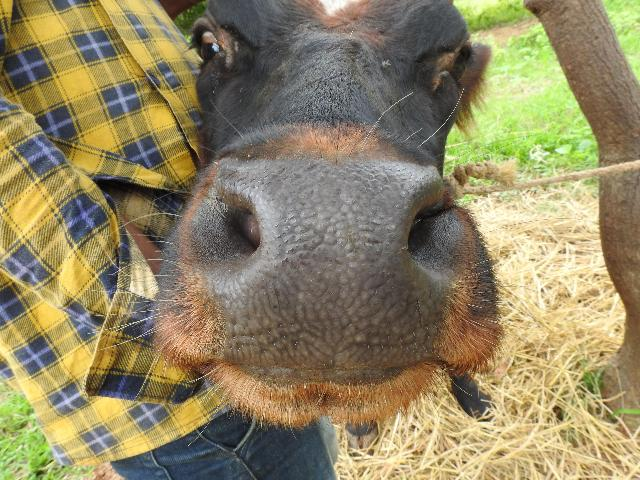Muzzle: (224, 168, 430, 358)
